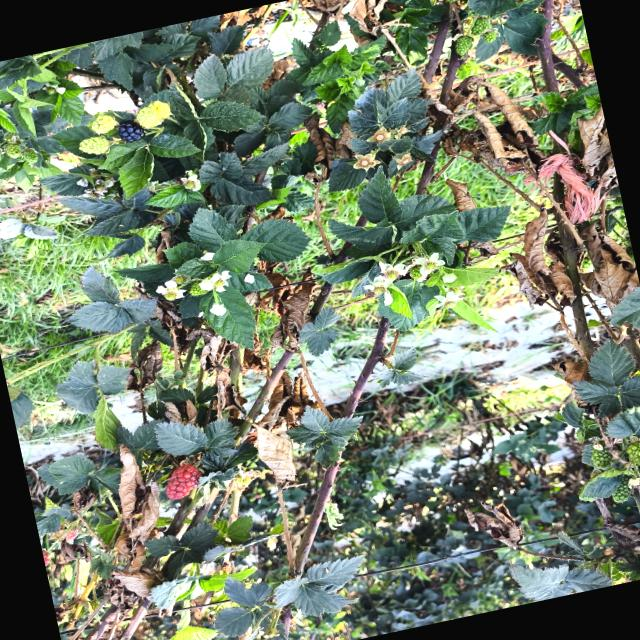maduro: (117, 120, 144, 142)
naranja: (165, 464, 200, 499)
verde: (136, 100, 170, 128), (590, 441, 612, 468), (88, 113, 117, 133), (79, 135, 109, 154), (612, 475, 632, 502), (146, 100, 171, 119), (626, 440, 640, 466), (471, 16, 490, 35), (455, 36, 472, 56), (21, 148, 38, 164), (3, 143, 21, 158), (482, 30, 500, 43)
